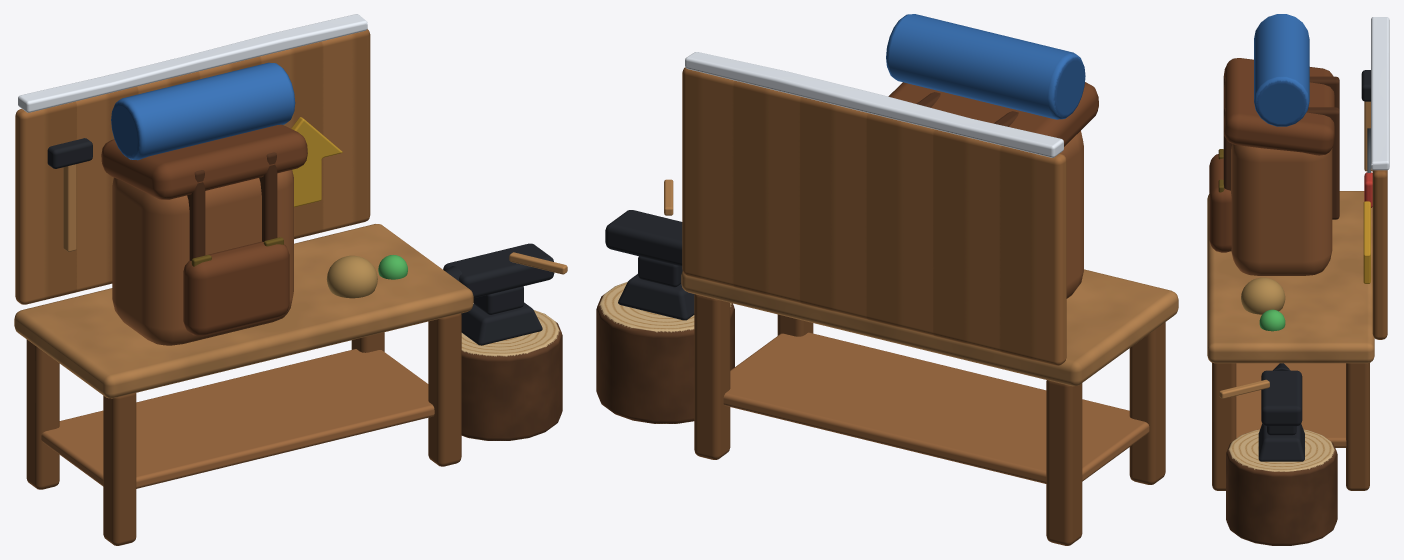
Rendered from upgrade_bench.glb.
The picture shows the model from 3 angles, left to right: view 1: azimuth 30°, elevation 25°; view 2: azimuth 150°, elevation 25°; view 3: azimuth 270°, elevation 25°; orthographic projection. The views are drawn at different scales.
Parts seen in each view (by area): view 1: abase; view 2: abase; view 3: abase.
Boxes of the visible parts, bbox=[...] form: abase: bbox=[14, 14, 567, 545]; abase: bbox=[596, 14, 1178, 545]; abase: bbox=[1207, 14, 1389, 545].
Size of the model in its own units: 2.65 by 2.1 by 0.98.
1 material, 1 textured.
